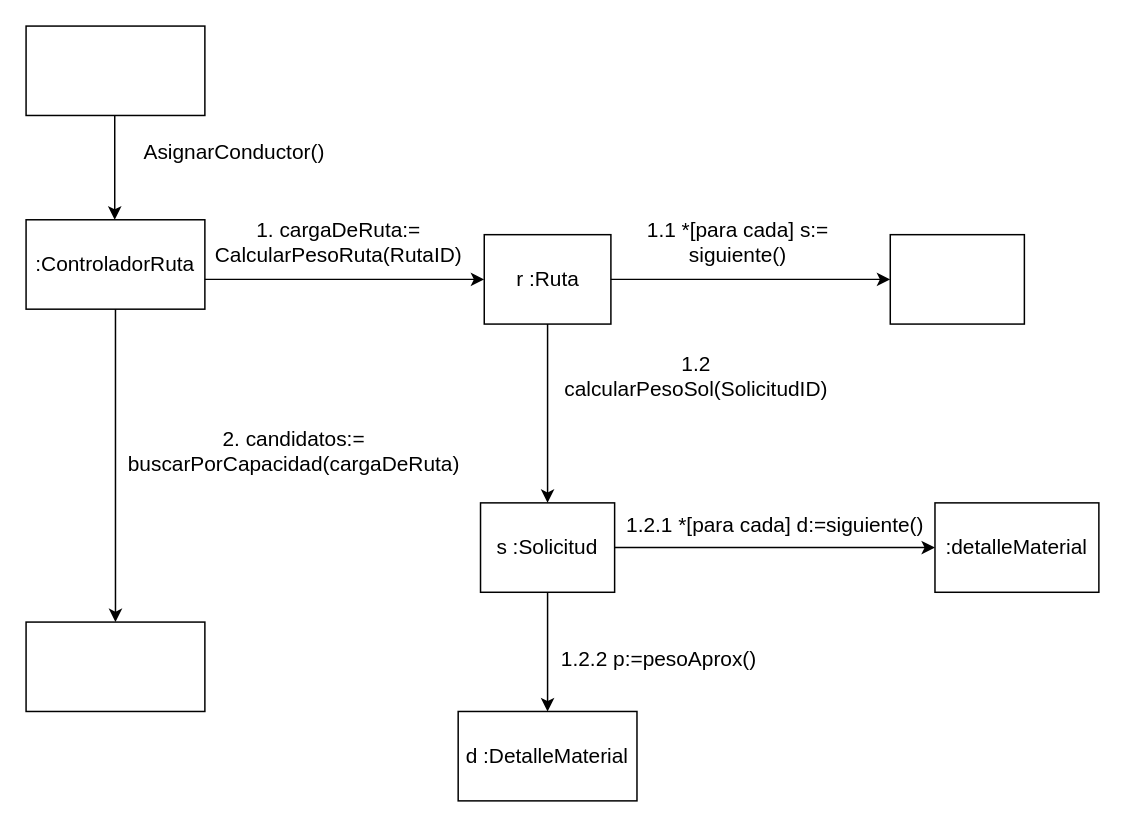
This 1125x827 diagram has some shape labels left out. Here are the shapes that lost their labels. From the top down, the centre of each, then its label:
At [115,70]: ":Coordinador".
At [956,278]: ":Solicitud".
At [115,666]: "Lista: Reciclador".
